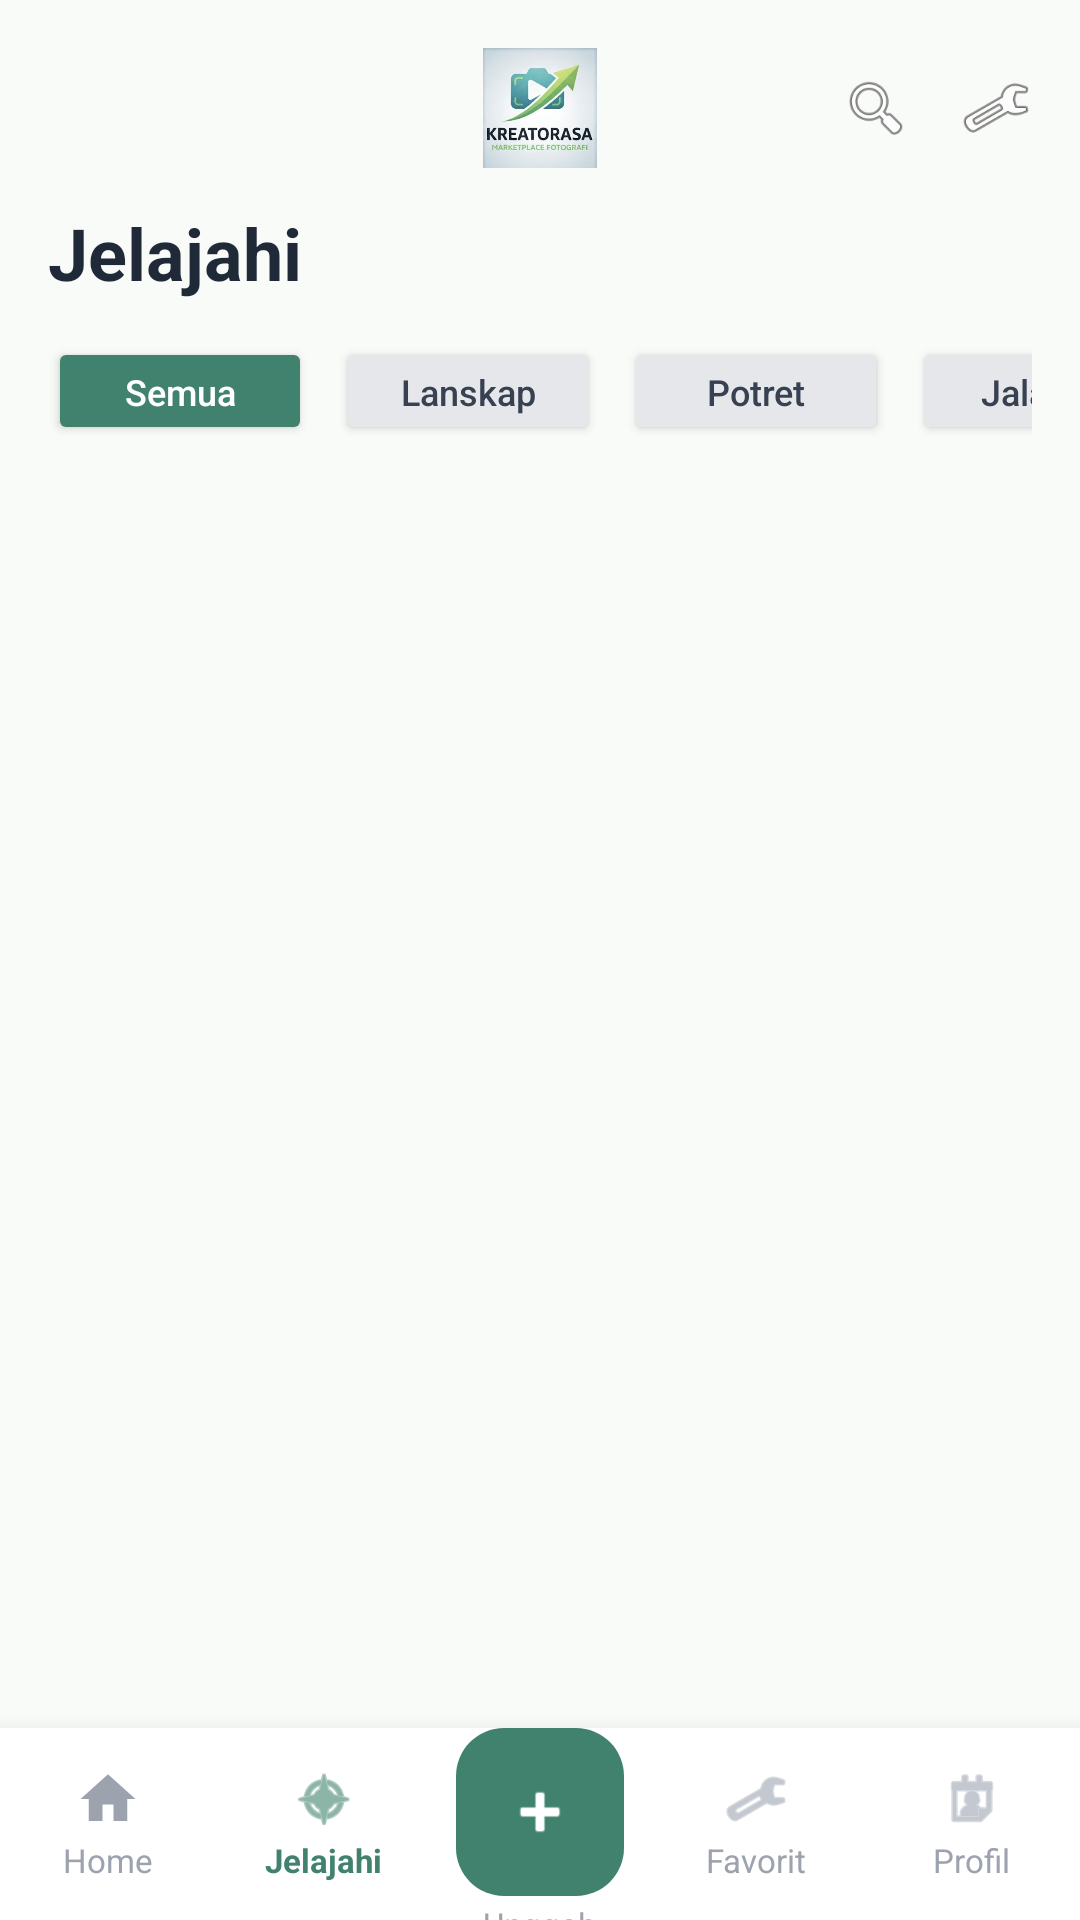

Screen size 1080px×1920px. Icon name, then its center in pixels as point (x, y):
calendar: point (972, 1798)
compass: point (324, 1799)
manage: point (995, 108), point (756, 1799)
search: point (876, 108)
